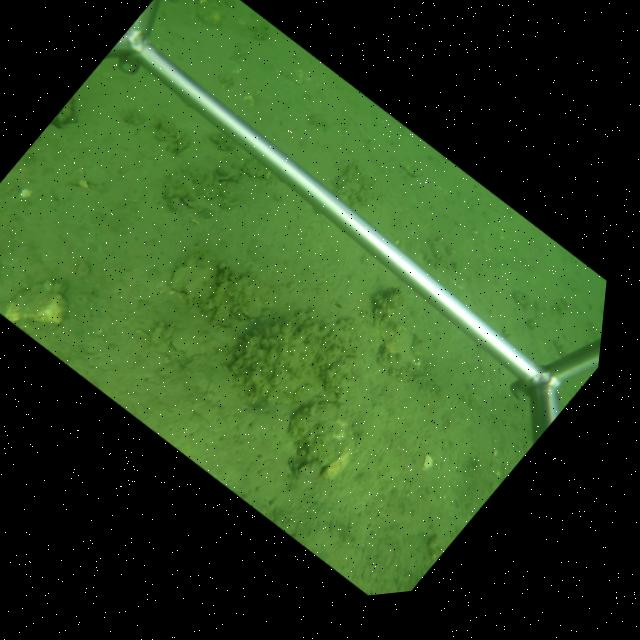Oyster-Indeterminate: (216, 175, 231, 183)
